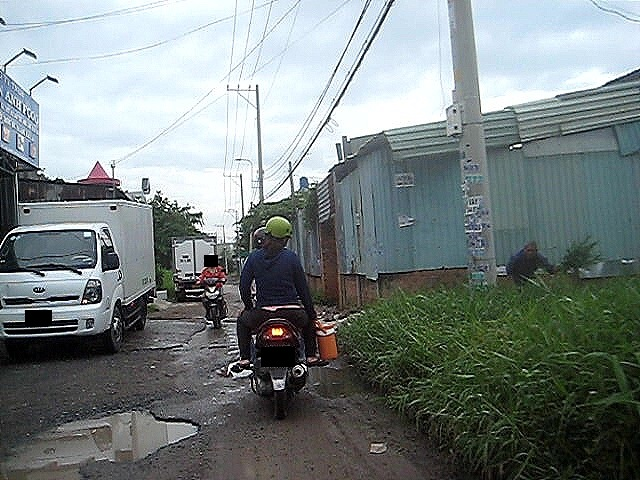hole: (3, 400, 204, 478), (209, 358, 253, 378), (146, 316, 206, 321)
